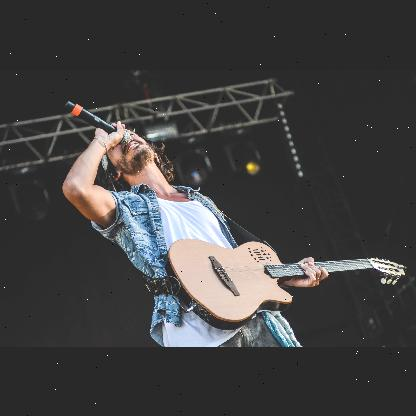acousticguitar: (164, 238, 408, 330)
